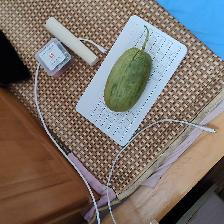gua: (107, 44, 144, 107)
